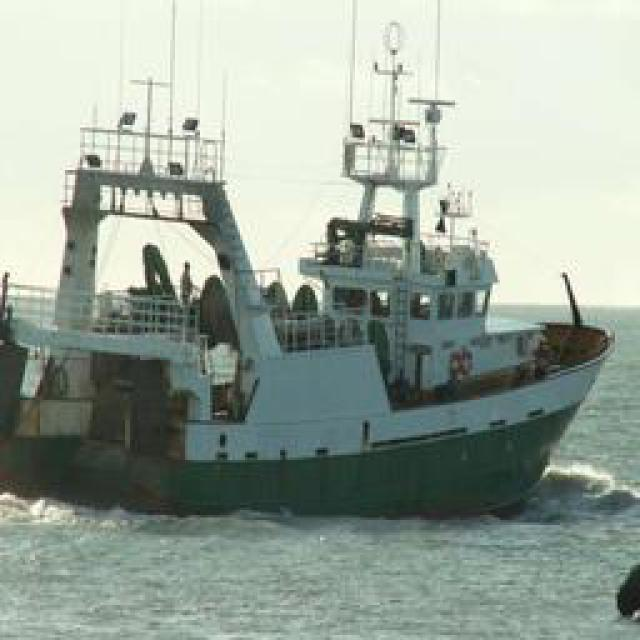Ship: (68, 59, 603, 522)
